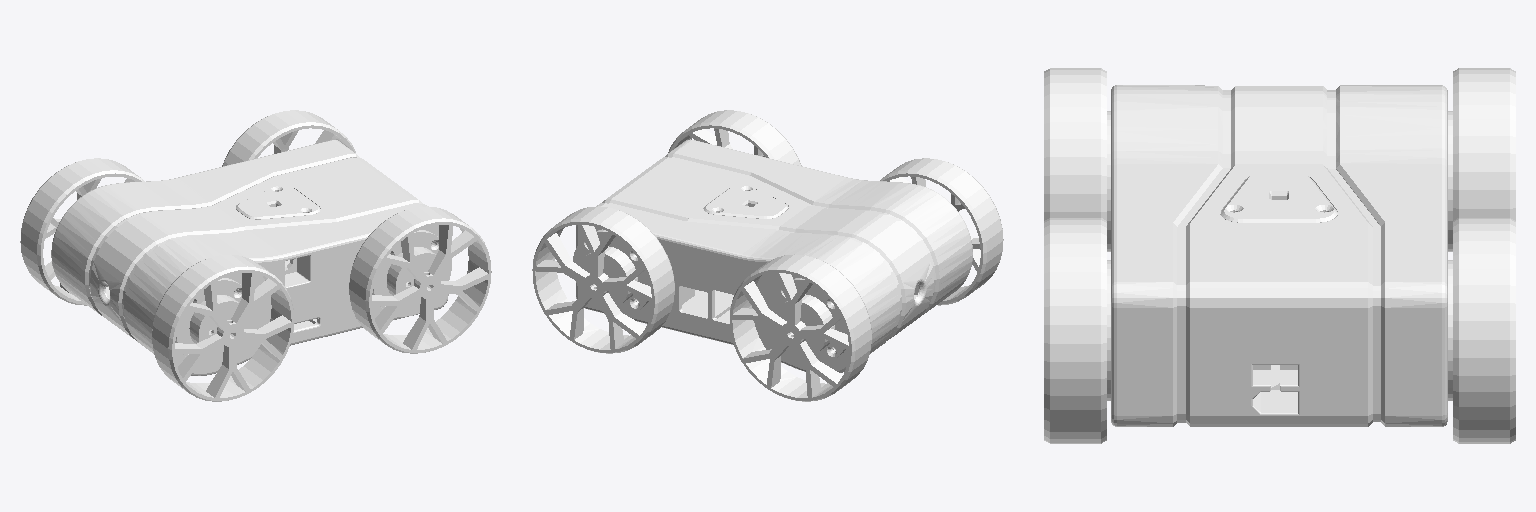
robot.urdf — razbotURDF:
<robot
  name="razbotURDF">
  <link
    name="base_link">
    <inertial>
      <origin
        xyz="-0.047551 0.024928 -0.024645"
        rpy="0 0 0" />
      <mass
        value="0.0049443" />
      <inertia
        ixx="4.0801E-07"
        ixy="2.7887E-09"
        ixz="1.8235E-13"
        iyy="9.9694E-07"
        iyz="-1.208E-13"
        izz="6.0448E-07" />
    </inertial>
    <visual>
      <origin
        xyz="0 0 0"
        rpy="0 0 0" />
      <geometry>
        <mesh
          filename="package://razbotURDF/meshes/base_link.STL" />
      </geometry>
      <material
        name="">
        <color
          rgba="1 1 1 1" />
      </material>
    </visual>
    <collision>
      <origin
        xyz="0 0 0"
        rpy="0 0 0" />
      <geometry>
        <mesh
          filename="package://razbotURDF/meshes/base_link.STL" />
      </geometry>
    </collision>
  </link>
  <link
    name="chassis_link">
    <inertial>
      <origin
        xyz="-0.00016468 -0.00030574 0.060085"
        rpy="0 0 0" />
      <mass
        value="0.32465" />
      <inertia
        ixx="0.00078517"
        ixy="3.66E-06"
        ixz="-2.193E-06"
        iyy="0.0017828"
        iyz="3.3207E-06"
        izz="0.0013042" />
    </inertial>
    <visual>
      <origin
        xyz="0 0 0"
        rpy="0 0 0" />
      <geometry>
        <mesh
          filename="package://razbotURDF/meshes/chassis_link.STL" />
      </geometry>
      <material
        name="">
        <color
          rgba="1 1 1 1" />
      </material>
    </visual>
    <collision>
      <origin
        xyz="0 0 0"
        rpy="0 0 0" />
      <geometry>
        <mesh
          filename="package://razbotURDF/meshes/chassis_link.STL" />
      </geometry>
    </collision>
  </link>
  <joint
    name="base_chassis_joint"
    type="fixed">
    <origin
      xyz="-0.062313 0.084145 -0.0019732"
      rpy="1.5708 0 0" />
    <parent
      link="base_link" />
    <child
      link="chassis_link" />
    <axis
      xyz="0 0 0" />
  </joint>
  <link
    name="wheel_1_link">
    <inertial>
      <origin
        xyz="4.8151E-08 -5.6032E-06 0.0086073"
        rpy="0 0 0" />
      <mass
        value="0.023428" />
      <inertia
        ixx="1.4558E-05"
        ixy="1.3566E-11"
        ixz="1.3408E-12"
        iyy="1.4559E-05"
        iyz="7.7035E-10"
        izz="2.7356E-05" />
    </inertial>
    <visual>
      <origin
        xyz="0 0 0"
        rpy="0 0 0" />
      <geometry>
        <mesh
          filename="package://razbotURDF/meshes/wheel_1_link.STL" />
      </geometry>
      <material
        name="">
        <color
          rgba="1 1 1 1" />
      </material>
    </visual>
    <collision>
      <origin
        xyz="0 0 0"
        rpy="0 0 0" />
      <geometry>
        <mesh
          filename="package://razbotURDF/meshes/wheel_1_link.STL" />
      </geometry>
    </collision>
  </link>
  <joint
    name="chassis_wheel_1_joint"
    type="continuous">
    <origin
      xyz="-0.061 0 -0.024"
      rpy="0 0 -3.1172" />
    <parent
      link="chassis_link" />
    <child
      link="wheel_1_link" />
    <axis
      xyz="0 0 0" />
  </joint>
  <link
    name="wheel_2_link">
    <inertial>
      <origin
        xyz="4.8151E-08 -5.6032E-06 0.0086073"
        rpy="0 0 0" />
      <mass
        value="0.023428" />
      <inertia
        ixx="1.4558E-05"
        ixy="1.3566E-11"
        ixz="1.3408E-12"
        iyy="1.4559E-05"
        iyz="7.7035E-10"
        izz="2.7356E-05" />
    </inertial>
    <visual>
      <origin
        xyz="0 0 0"
        rpy="0 0 0" />
      <geometry>
        <mesh
          filename="package://razbotURDF/meshes/wheel_2_link.STL" />
      </geometry>
      <material
        name="">
        <color
          rgba="1 1 1 1" />
      </material>
    </visual>
    <collision>
      <origin
        xyz="0 0 0"
        rpy="0 0 0" />
      <geometry>
        <mesh
          filename="package://razbotURDF/meshes/wheel_2_link.STL" />
      </geometry>
    </collision>
  </link>
  <joint
    name="chassis_wheel_2_joint"
    type="continuous">
    <origin
      xyz="0.064 0 -0.024"
      rpy="0 0 -3.1172" />
    <parent
      link="chassis_link" />
    <child
      link="wheel_2_link" />
    <axis
      xyz="0 0 0" />
  </joint>
  <link
    name="wheel_3_link">
    <inertial>
      <origin
        xyz="4.8151E-08 -5.6032E-06 0.0086073"
        rpy="0 0 0" />
      <mass
        value="0.023428" />
      <inertia
        ixx="1.4558E-05"
        ixy="1.3566E-11"
        ixz="1.3408E-12"
        iyy="1.4559E-05"
        iyz="7.7035E-10"
        izz="2.7356E-05" />
    </inertial>
    <visual>
      <origin
        xyz="0 0 0"
        rpy="0 0 0" />
      <geometry>
        <mesh
          filename="package://razbotURDF/meshes/wheel_3_link.STL" />
      </geometry>
      <material
        name="">
        <color
          rgba="1 1 1 1" />
      </material>
    </visual>
    <collision>
      <origin
        xyz="0 0 0"
        rpy="0 0 0" />
      <geometry>
        <mesh
          filename="package://razbotURDF/meshes/wheel_3_link.STL" />
      </geometry>
    </collision>
  </link>
  <joint
    name="chassis_wheel_3_link"
    type="continuous">
    <origin
      xyz="0.064 0 0.1425"
      rpy="3.1416 0 3.1331" />
    <parent
      link="chassis_link" />
    <child
      link="wheel_3_link" />
    <axis
      xyz="0 0 0" />
  </joint>
  <link
    name="wheel_4_link">
    <inertial>
      <origin
        xyz="4.8151E-08 -5.6032E-06 0.0086073"
        rpy="0 0 0" />
      <mass
        value="0.023428" />
      <inertia
        ixx="1.4558E-05"
        ixy="1.3566E-11"
        ixz="1.3408E-12"
        iyy="1.4559E-05"
        iyz="7.7035E-10"
        izz="2.7356E-05" />
    </inertial>
    <visual>
      <origin
        xyz="0 0 0"
        rpy="0 0 0" />
      <geometry>
        <mesh
          filename="package://razbotURDF/meshes/wheel_4_link.STL" />
      </geometry>
      <material
        name="">
        <color
          rgba="1 1 1 1" />
      </material>
    </visual>
    <collision>
      <origin
        xyz="0 0 0"
        rpy="0 0 0" />
      <geometry>
        <mesh
          filename="package://razbotURDF/meshes/wheel_4_link.STL" />
      </geometry>
    </collision>
  </link>
  <joint
    name="chassis_wheel_4_joint"
    type="continuous">
    <origin
      xyz="-0.061 0 0.1425"
      rpy="3.1416 0 3.1331" />
    <parent
      link="chassis_link" />
    <child
      link="wheel_4_link" />
    <axis
      xyz="0 0 0" />
  </joint>
</robot>

--- Render facts (derived) ---
3 views of the same robot in one strip: view 1: azimuth 30°, elevation 25°; view 2: azimuth 150°, elevation 25°; view 3: azimuth 270°, elevation 25° (orthographic).
Model razbotURDF with 6 links and 5 joints (4 continuous, 1 fixed), rooted at base_link, posed every joint at zero.
Links seen in each view (by area): view 1: chassis_link, wheel_3_link, wheel_4_link, wheel_1_link, wheel_2_link, base_link; view 2: chassis_link, wheel_2_link, wheel_1_link, wheel_4_link, wheel_3_link, base_link; view 3: chassis_link, wheel_2_link, wheel_3_link, wheel_1_link, wheel_4_link, base_link.
Link boxes in pixels (left/top/right/bottom): chassis_link: left=51, top=140, right=451, bottom=375; wheel_3_link: left=349, top=206, right=491, bottom=353; wheel_4_link: left=152, top=254, right=293, bottom=401; wheel_1_link: left=20, top=158, right=144, bottom=305; wheel_2_link: left=222, top=110, right=355, bottom=166; base_link: left=236, top=185, right=320, bottom=219; chassis_link: left=573, top=139, right=972, bottom=372; wheel_2_link: left=532, top=206, right=674, bottom=353; wheel_1_link: left=730, top=254, right=871, bottom=401; wheel_4_link: left=880, top=158, right=1003, bottom=305; wheel_3_link: left=668, top=110, right=801, bottom=165; base_link: left=704, top=185, right=788, bottom=218; chassis_link: left=1107, top=85, right=1452, bottom=426; wheel_2_link: left=1453, top=218, right=1515, bottom=443; wheel_3_link: left=1044, top=218, right=1106, bottom=443; wheel_1_link: left=1453, top=68, right=1515, bottom=220; wheel_4_link: left=1044, top=68, right=1106, bottom=220; base_link: left=1221, top=172, right=1337, bottom=222.
Size in the robot's own frame: 0.205 by 0.1665 by 0.0799 metres.
6 mesh visuals loaded from 6 distinct referenced files (6 binary STL).